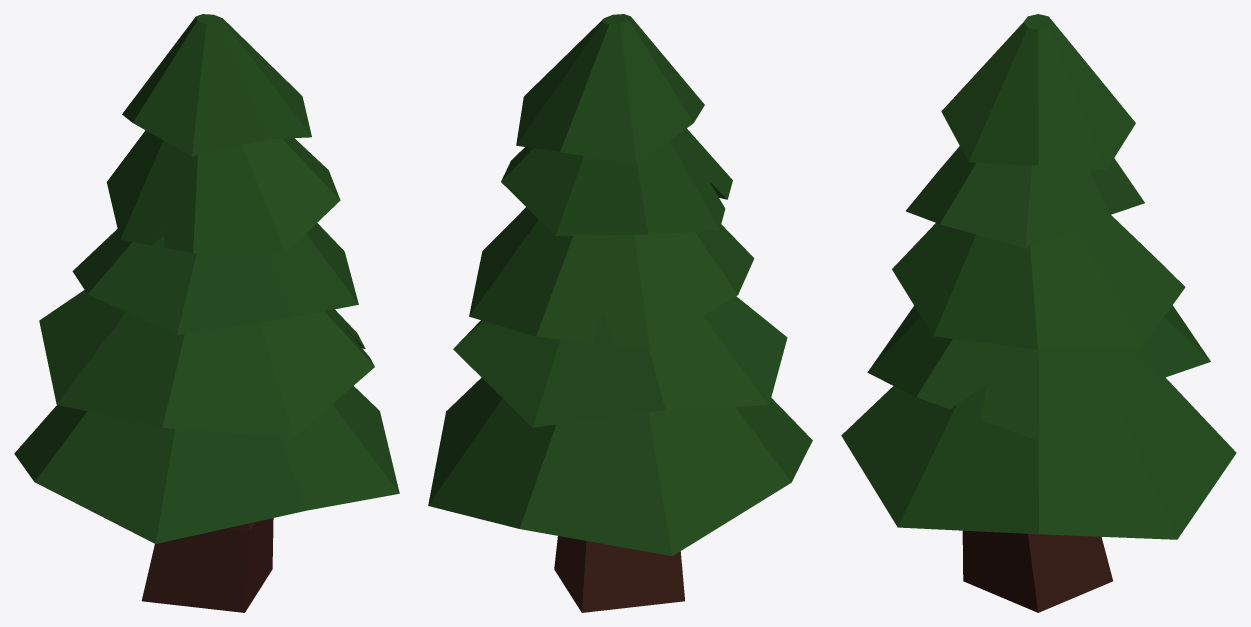
Rendered from Tree6.fbx.
3 renders of one model, left to right at view 1: azimuth 30°, elevation 25°; view 2: azimuth 150°, elevation 25°; view 3: azimuth 270°, elevation 25°, orthographic.
Parts seen in each view (by area): view 1: Needles6, Cylinder; view 2: Needles6, Cylinder; view 3: Needles6, Cylinder.
Boxes of the visible parts, <box> form: Needles6: <box>14,14,399,543</box>; Cylinder: <box>141,518,273,612</box>; Needles6: <box>428,14,812,556</box>; Cylinder: <box>554,536,684,612</box>; Needles6: <box>841,14,1236,539</box>; Cylinder: <box>962,530,1112,612</box>.
Size of the model in its own units: 422 by 422 by 662.
